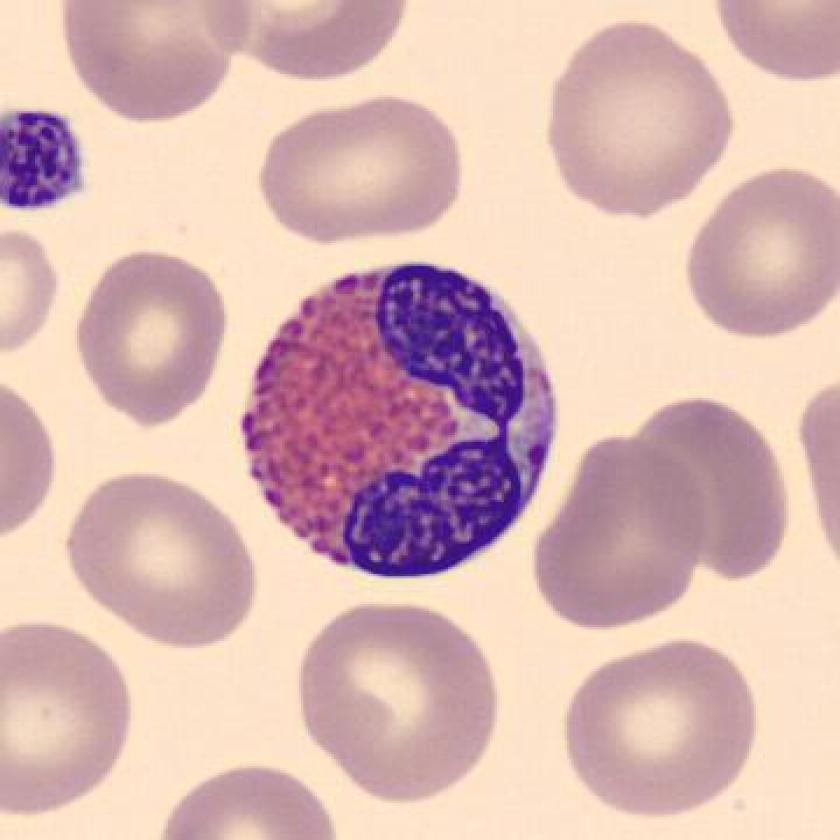eosinophil: (227, 249, 573, 589)
